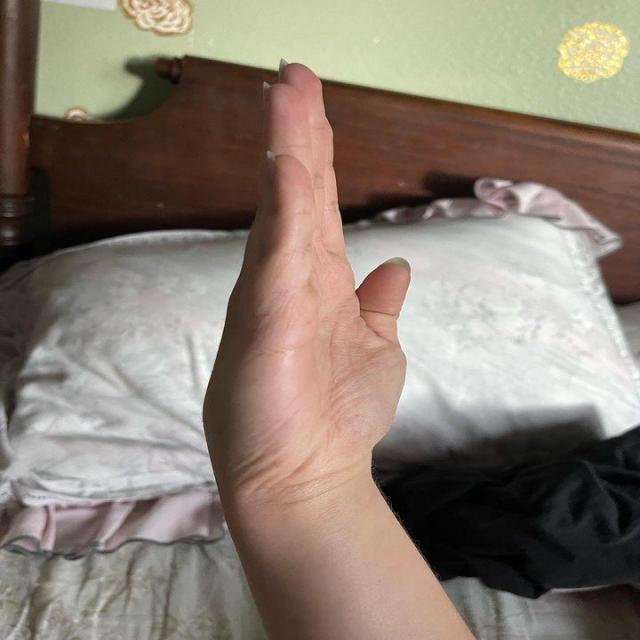B: (198, 54, 433, 492)
